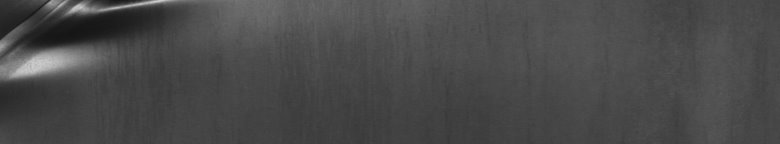ke: (4, 4, 182, 88)
